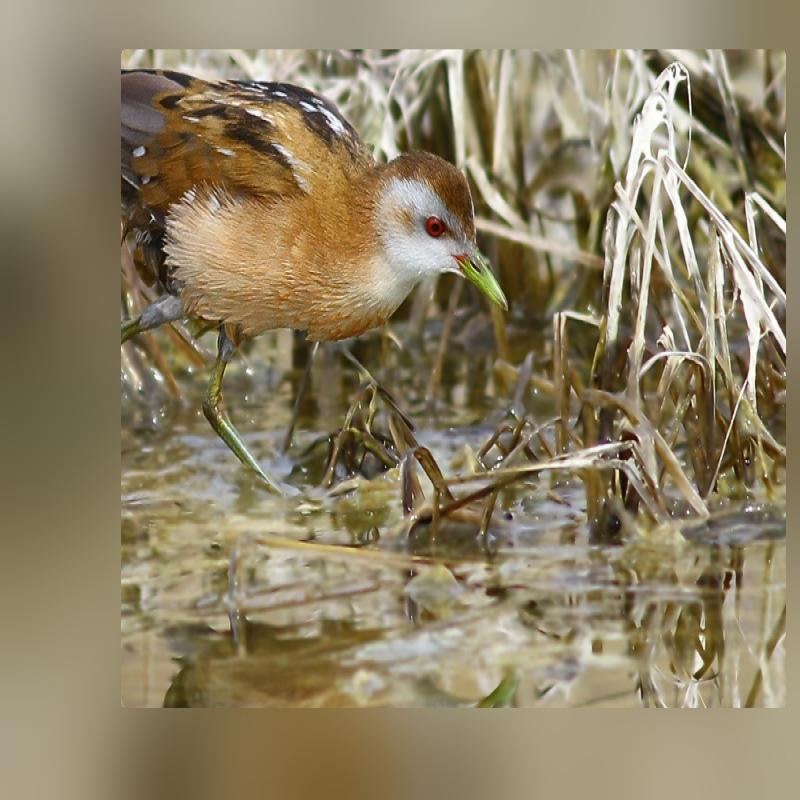little crake: (120, 65, 520, 398)
